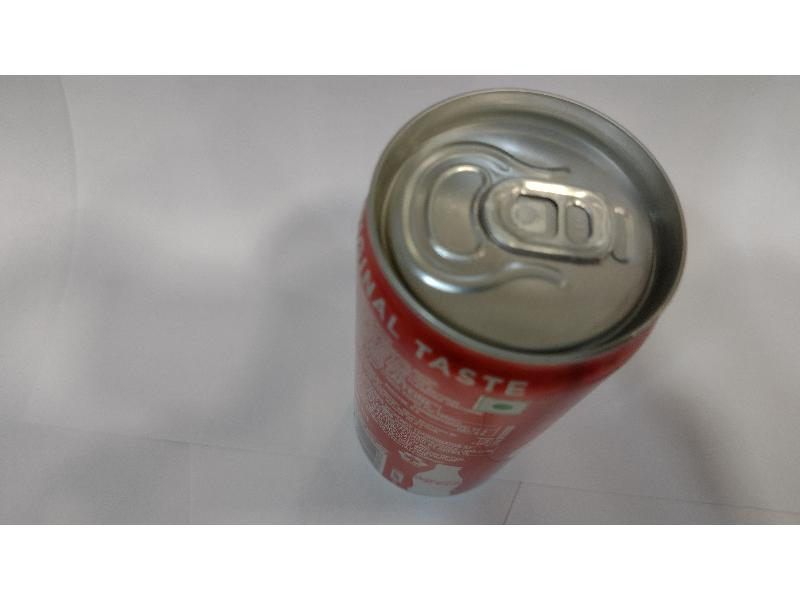can: (352, 82, 688, 496)
